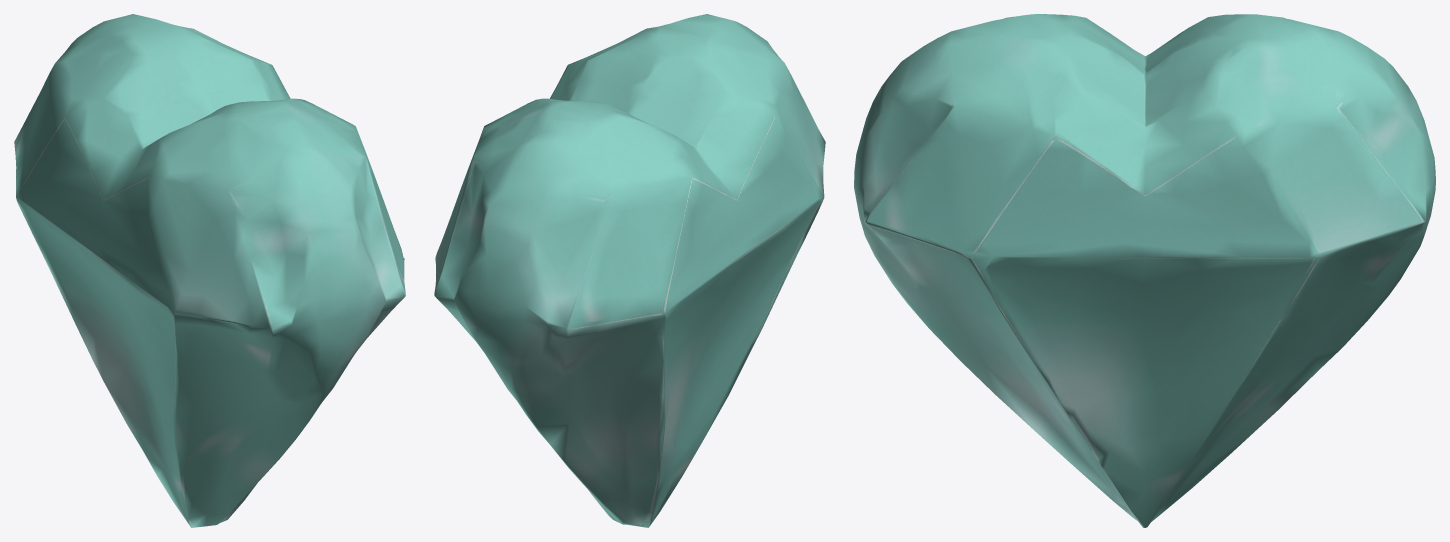
Rendered from tripo_convert_967146e9-a581-4364-8a08-159a7e5fa946.fbx.
3 views of the same model, side by side, from view 1: azimuth 30°, elevation 25°; view 2: azimuth 150°, elevation 25°; view 3: azimuth 270°, elevation 25° (orthographic). The views are drawn at different scales.
Visible parts, largest first — view 1: tripo_node_967146e9; view 2: tripo_node_967146e9; view 3: tripo_node_967146e9.
Part boxes in pixels (<box>): tripo_node_967146e9: <box>14,14,405,527</box>; tripo_node_967146e9: <box>434,14,825,527</box>; tripo_node_967146e9: <box>854,14,1435,527</box>.
Bounding box in the file's own units: 0.4894 × 0.9155 × 0.9799.
1 material, 1 textured.
